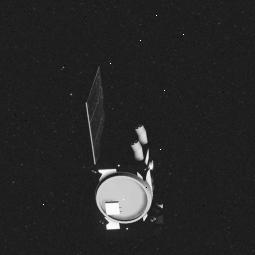proba_3_csc: (74, 63, 172, 237)
